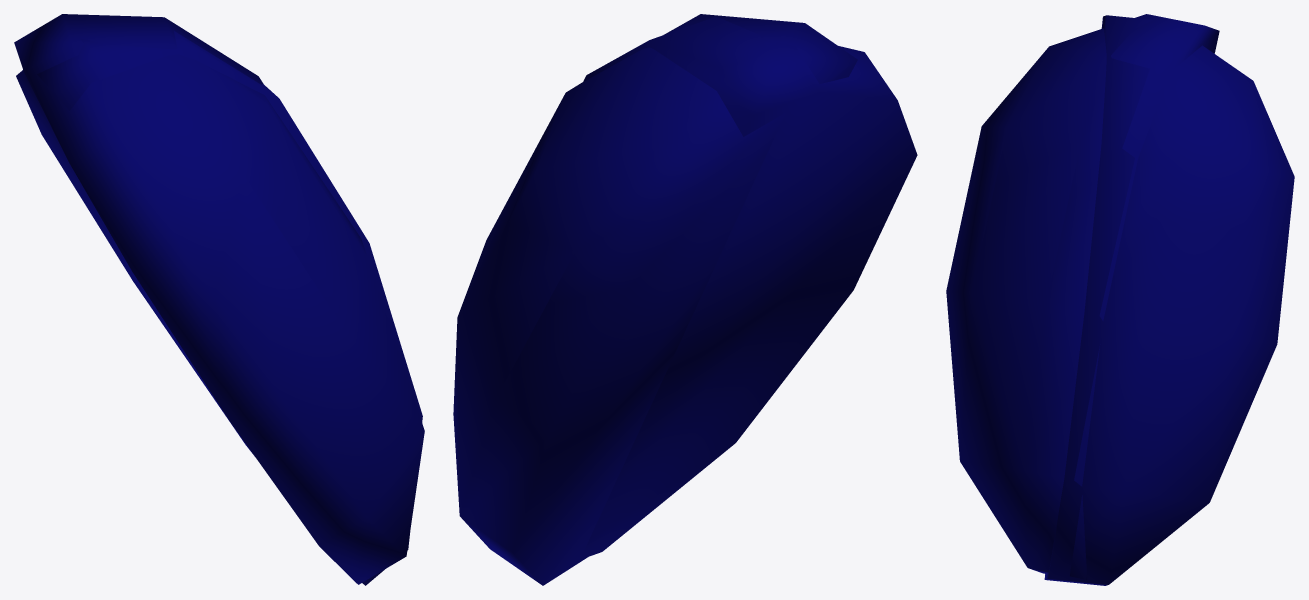
File: playerRightArm.fbx
3 views of the same model, side by side, from view 1: azimuth 30°, elevation 25°; view 2: azimuth 150°, elevation 25°; view 3: azimuth 270°, elevation 25° (orthographic). The views are drawn at different scales.
Visible parts, largest first — view 1: Shape_IndexedFaceSet.006; view 2: Shape_IndexedFaceSet.006; view 3: Shape_IndexedFaceSet.006.
Part boxes in pixels (bbox=[...]): Shape_IndexedFaceSet.006: bbox=[14, 14, 424, 585]; Shape_IndexedFaceSet.006: bbox=[453, 14, 917, 585]; Shape_IndexedFaceSet.006: bbox=[946, 14, 1294, 585].
Bounding box in the file's own units: 0.2469 × 0.3665 × 0.2443.
